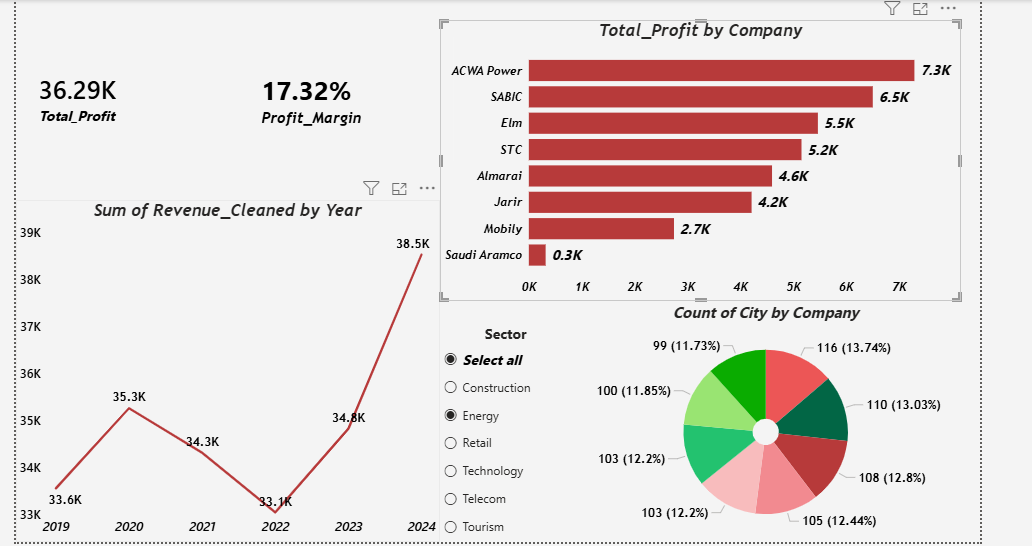

The page's visual inventory and layout, read from the dashboard file:
{"tool":"powerbi","page":{"name":"Page 1","canvas":[1280,720],"ordinal":0},"visuals":[{"type":"cardVisual","fields":{"Data":["Query1.Total_Profit"]},"box":[1.7,35.3,280.5,189.8],"z":0},{"type":"cardVisual","fields":{"Data":["Query1.Profit_Margin"]},"box":[300.7,48.7,280.5,164.6],"z":1000},{"type":"barChart","fields":{"Category":["Query1.Company"],"Y":["Query1.Total_Profit"]},"box":[562.7,26.9,692.1,372.9],"z":2000},{"type":"lineChart","fields":{"Y":["Sum(Query1.Revenue_Cleaned)"],"Category":["Query1.Year"]},"box":[0,265.4,562.7,455.2],"z":3000},{"type":"listSlicer","fields":{"Values":["Query1.Sector"]},"box":[562.7,430,174.7,290.6],"z":4000},{"type":"donutChart","fields":{"Category":["Query1.Company"],"Y":["CountNonNull(Query1.City)"]},"box":[712.2,399.8,567.8,320.8],"z":5000}]}

Visuals, with their boxes on the page's 1280x720 design canvas (x1, y1, x2, y2). These are canvas units, not pixel positions in the 1032x546 screenshot, which may show the page scaled, cropped or inside an application window:
cardVisual - Query1.Total_Profit: [left=2, top=35, right=282, bottom=225]
cardVisual - Query1.Profit_Margin: [left=301, top=49, right=581, bottom=213]
barChart - Query1.Company x Query1.Total_Profit: [left=563, top=27, right=1255, bottom=400]
lineChart - Sum(Query1.Revenue_Cleaned) x Query1.Year: [left=0, top=265, right=563, bottom=721]
listSlicer - Query1.Sector: [left=563, top=430, right=737, bottom=721]
donutChart - Query1.Company x CountNonNull(Query1.City): [left=712, top=400, right=1280, bottom=721]
